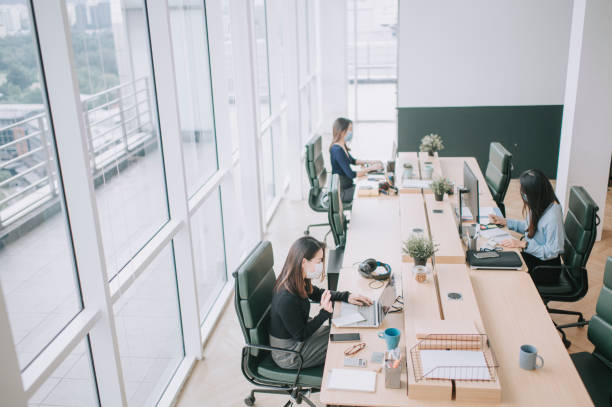with mask: (329, 113, 360, 149)
